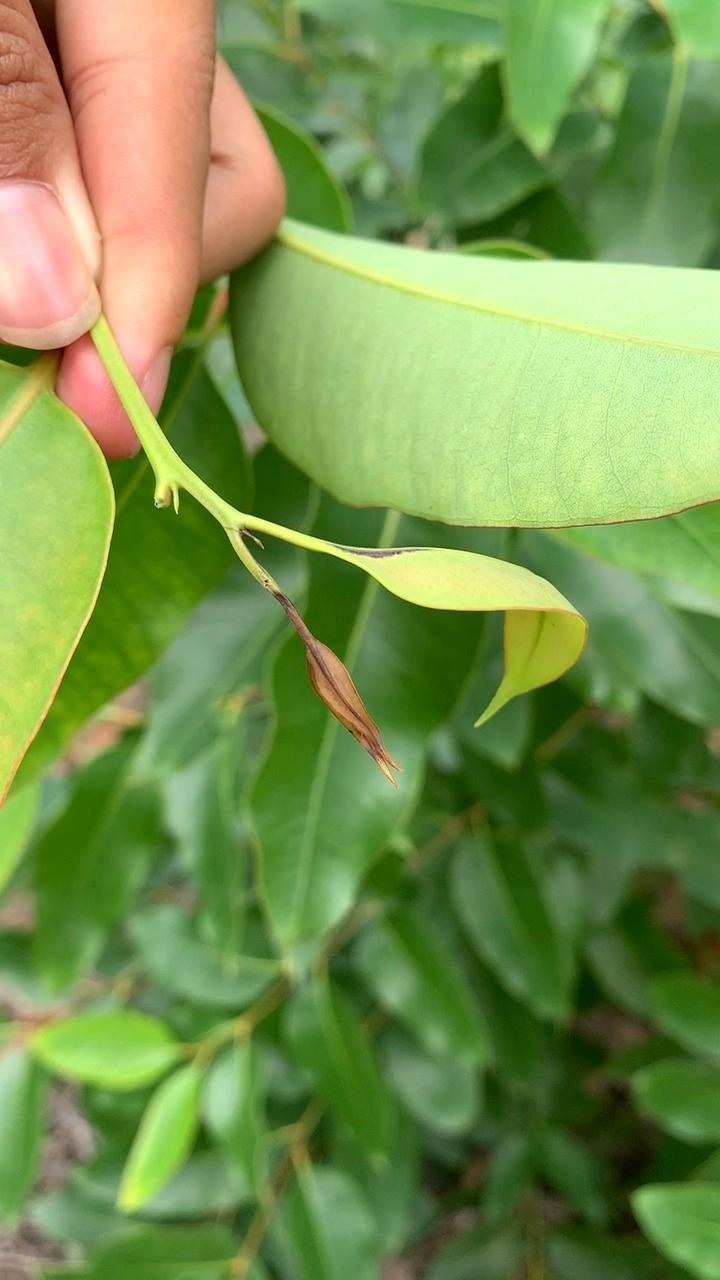Helopeltis-Withered Sprout: (270, 618, 399, 781)
